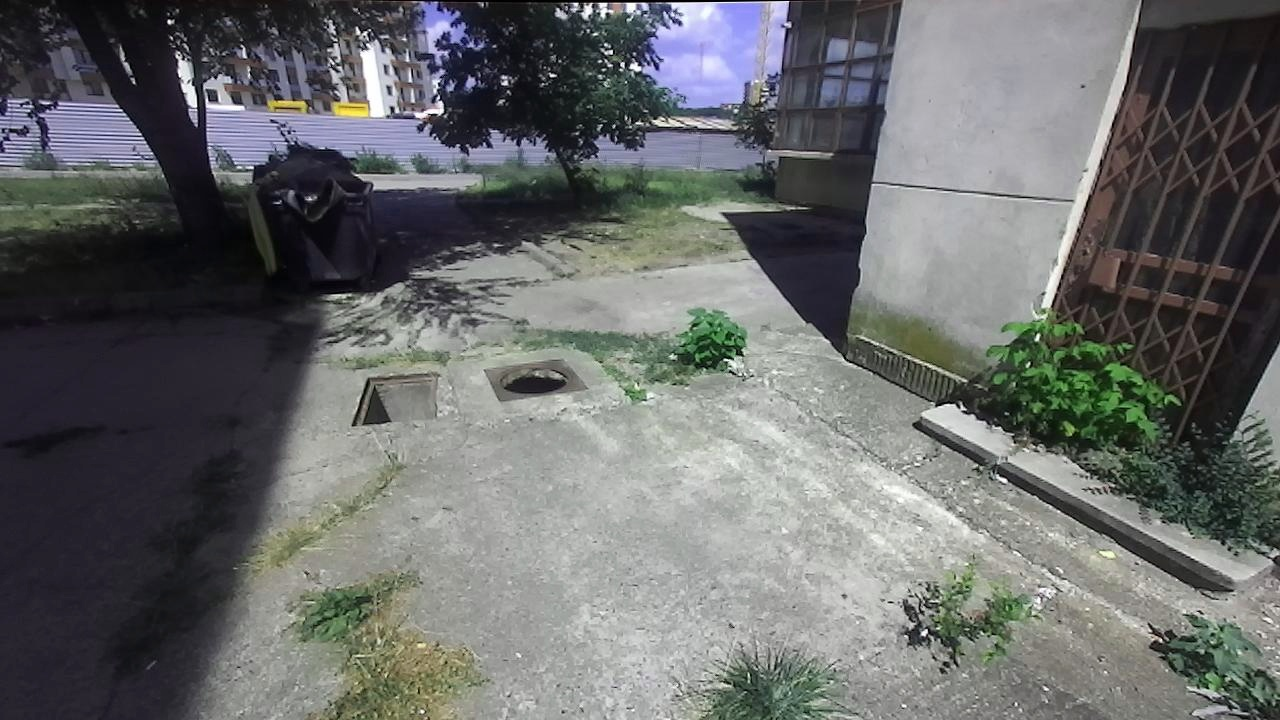drain: (348, 369, 440, 428), (495, 363, 571, 397)
